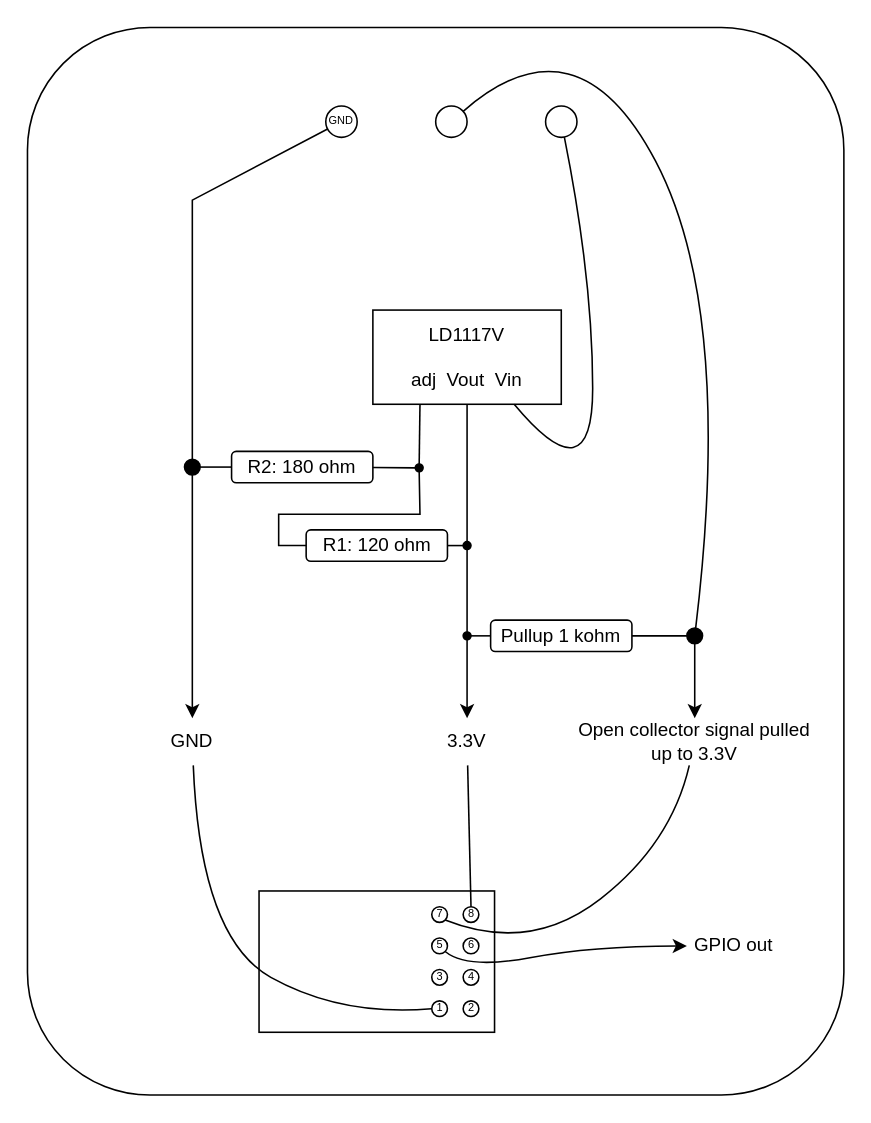
Some shapes in this 871 by 1123 pixel diagram are drawn without their labels. The box of each missing label's shape, as (x1, y1, x2, y2) in pixels:
5V: (544, 104, 577, 137)
ESP01s: (257, 889, 495, 1032)
